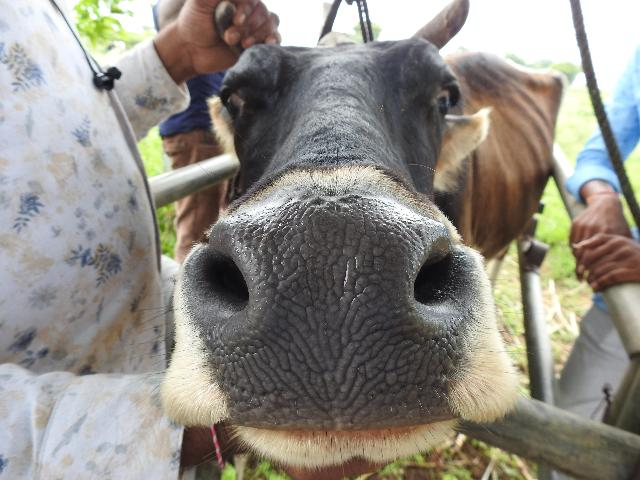Muzzle: (243, 214, 411, 412)
